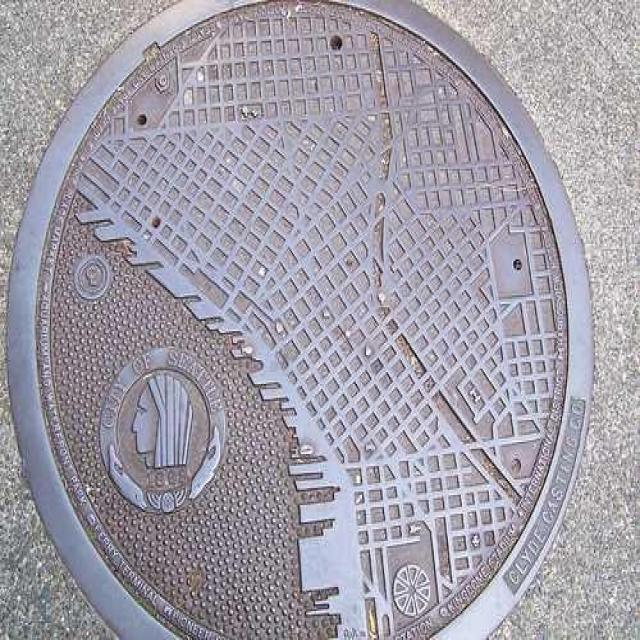manhole: (7, 3, 593, 637)
